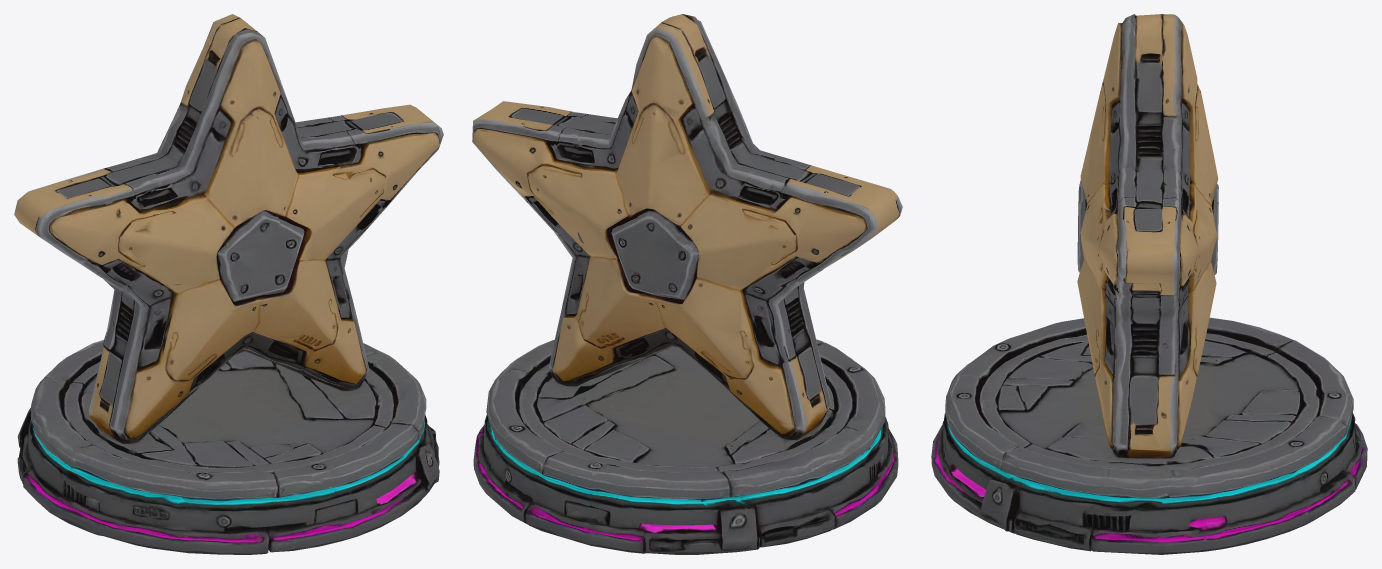
File: prop-star.glb
The picture shows the model from 3 angles, left to right: view 1: azimuth 30°, elevation 25°; view 2: azimuth 150°, elevation 25°; view 3: azimuth 270°, elevation 25°; orthographic projection. The views are drawn at different scales.
Visible parts, largest first — view 1: body; view 2: body; view 3: body.
Part boxes in pixels (x1,y1,x2,y2): body: [14, 14, 443, 554]; body: [472, 14, 902, 554]; body: [931, 14, 1367, 554].
Bounding box in the file's own units: 0.9491 × 0.998 × 0.8599.
1 material, 1 textured.
